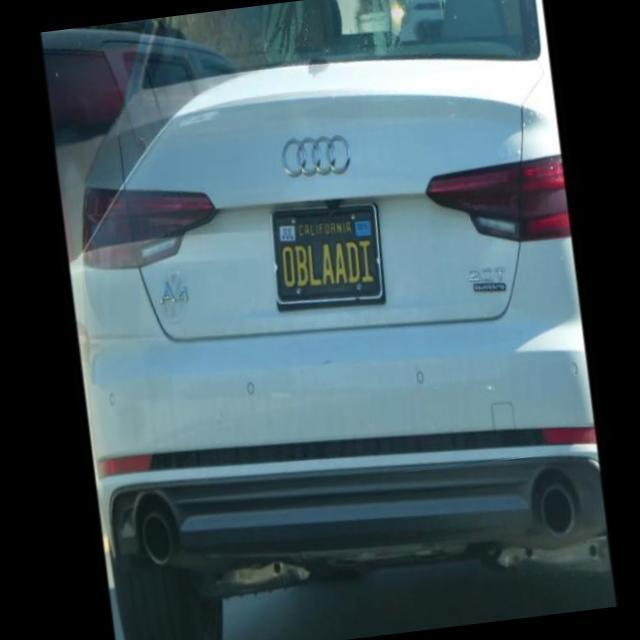License Plate: (260, 183, 392, 324)
